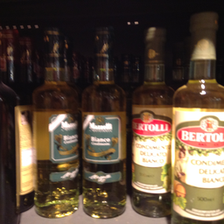vinegar: (170, 13, 223, 220), (79, 26, 130, 220), (30, 26, 79, 218), (130, 26, 174, 220)
